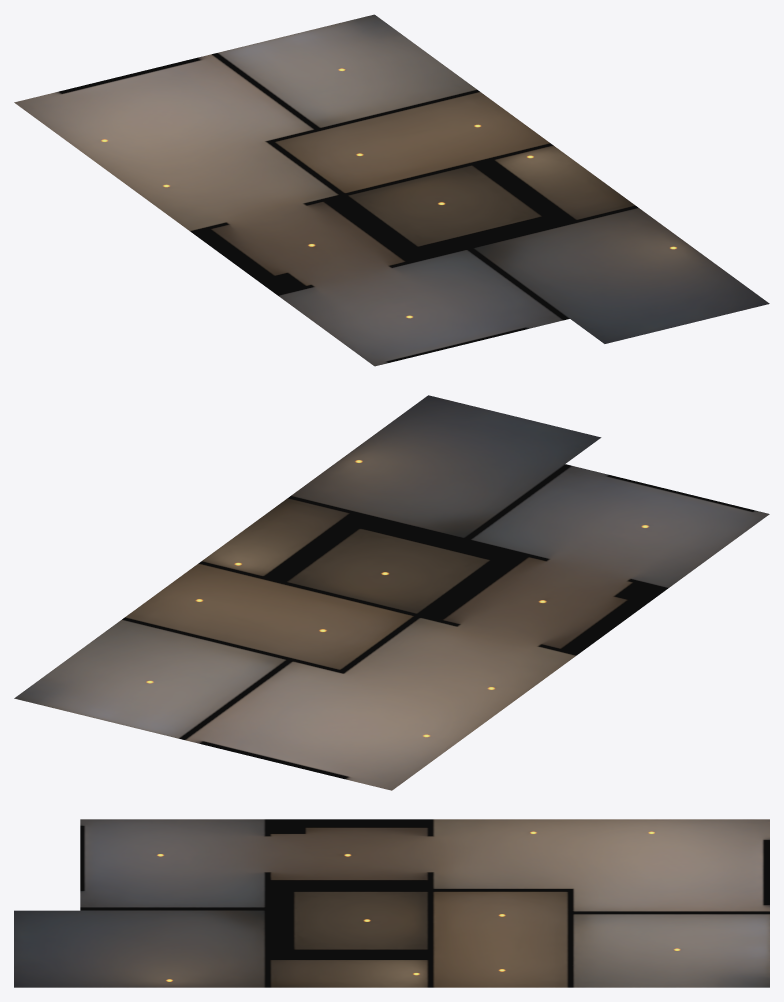
The picture shows the model from 3 angles, top to bottom: view 1: azimuth 30°, elevation 25°; view 2: azimuth 150°, elevation 25°; view 3: azimuth 270°, elevation 25°; orthographic projection. The views are drawn at different scales.
Visible parts, largest first — view 1: Plane.001; view 2: Plane.001; view 3: Plane.001.
Boxes of the visible parts, x1,y1,x2,y2 form: Plane.001: (14,14,769,366); Plane.001: (14,395,769,790); Plane.001: (14,819,769,987).
Size of the model in its own units: 6.85 by 0 by 13.
Materials: 1 (1 with a texture image).
